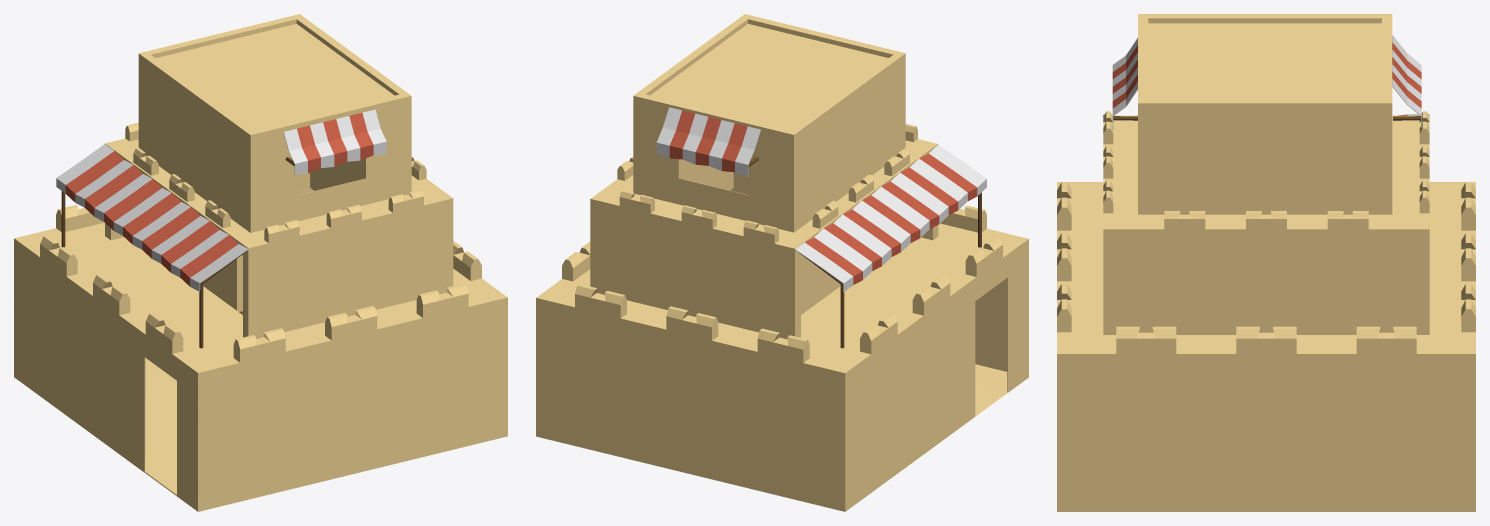
Rendered from Casa1.fbx.
The picture shows the model from 3 angles, left to right: view 1: azimuth 30°, elevation 25°; view 2: azimuth 150°, elevation 25°; view 3: azimuth 270°, elevation 25°; orthographic projection. The views are drawn at different scales.
Parts seen in each view (by area): view 1: Casa; view 2: Casa; view 3: Casa.
Part boxes in pixels (box(x1,y1,x2,y2)): Casa: box(14, 14, 507, 511); Casa: box(536, 14, 1028, 511); Casa: box(1057, 14, 1475, 511).
Size of the model in its own units: 854 by 830 by 843.
